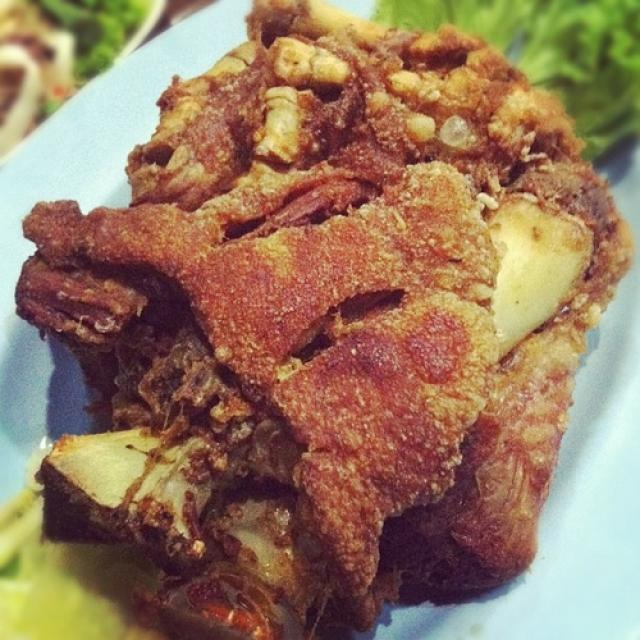猪肉菜式: (22, 13, 630, 631)
